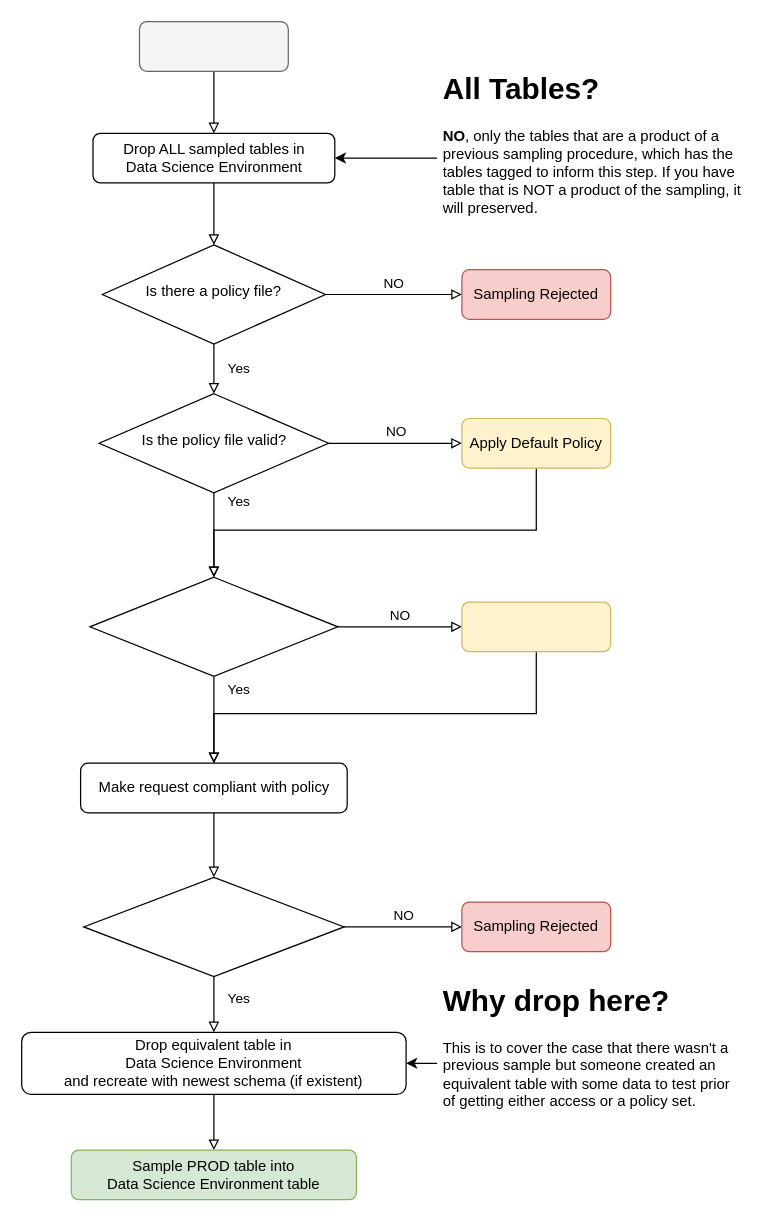
This 769x1221 diagram has some shape labels left out. Here are the shapes that lost their labels. From the top down, the centre of each, then its label:
At [213,45]: "Sampling Request Processing".
At [213,626]: "Is there a request file and is it valid?".
At [536,626]: "Apply Default Request from Policy".
At [213,926]: "Can table be sampled? (IAM permissions)".
